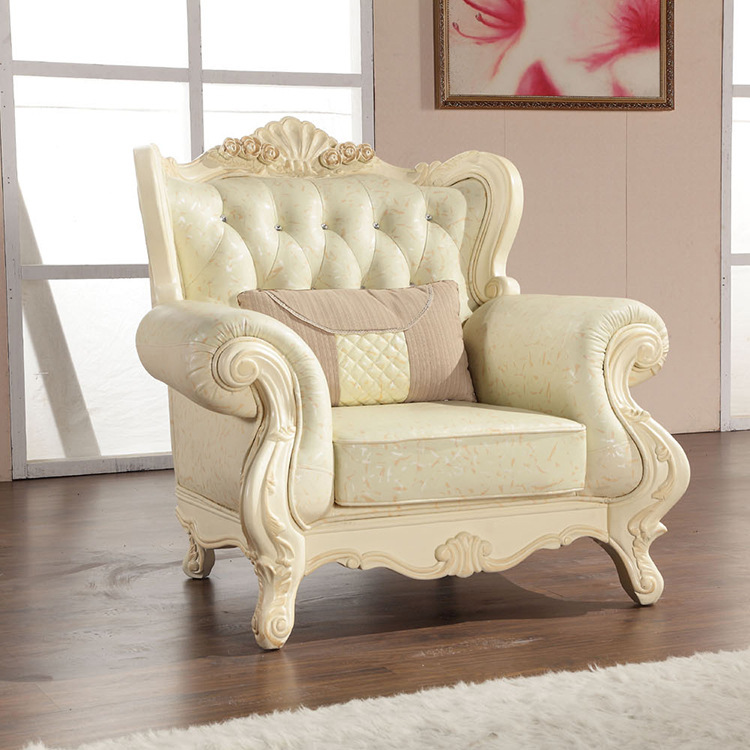Carving Chair: (132, 123, 695, 646)
